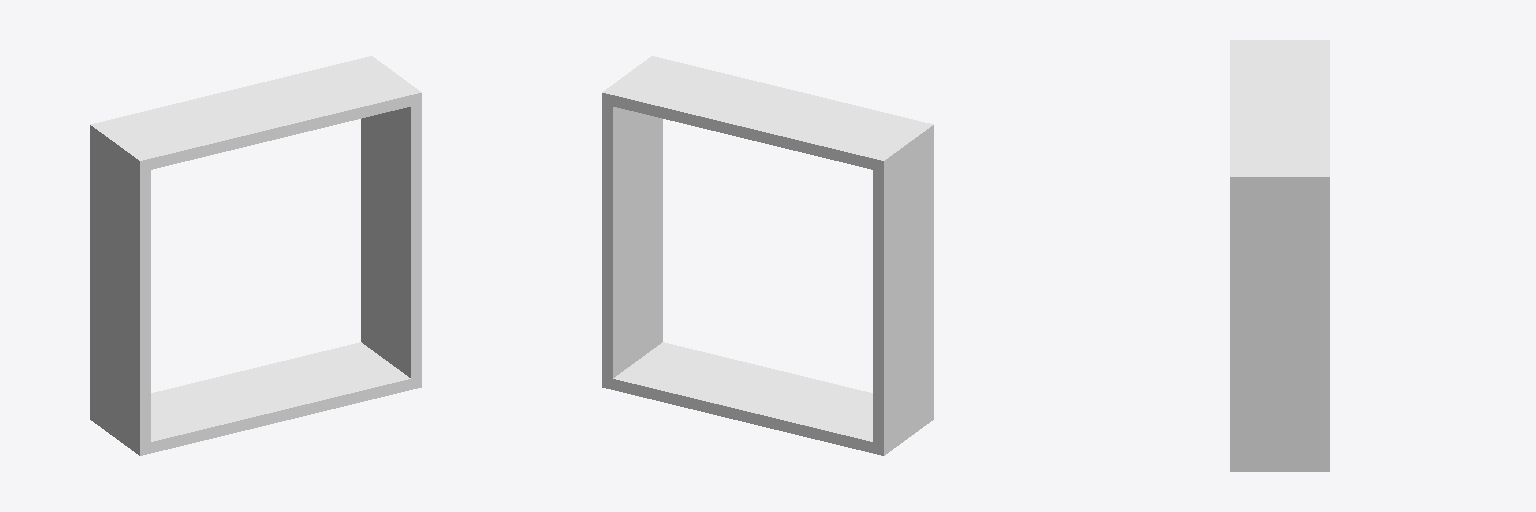
Rendered from orientatier.obj.
The picture shows the model from 3 angles: view 1: azimuth 30°, elevation 25°; view 2: azimuth 150°, elevation 25°; view 3: azimuth 270°, elevation 25°; orthographic projection.
Visible parts, largest first — view 1: object 1; view 2: object 1; view 3: object 1.
Boxes of the visible parts, box(x1,y1,x2,y2) form: object 1: box(90, 56, 421, 455); object 1: box(602, 56, 933, 455); object 1: box(1230, 40, 1329, 471).
Bounding box in the file's own units: 2.6 × 2.6 × 0.8.